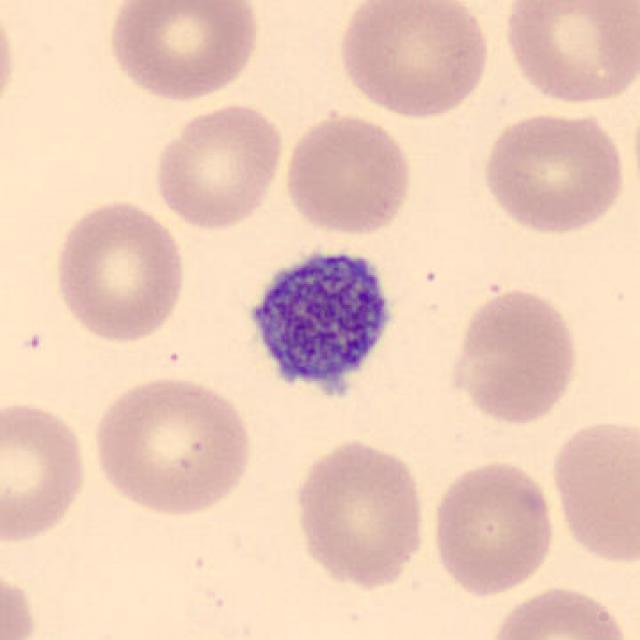Platelets: (233, 234, 403, 418)
RBC: (89, 371, 258, 518), (288, 434, 430, 592), (50, 194, 190, 346), (476, 106, 630, 238), (445, 284, 583, 428), (334, 0, 494, 122), (427, 455, 560, 599), (150, 100, 286, 231), (279, 111, 416, 238), (103, 0, 263, 104), (497, 0, 638, 109), (546, 413, 638, 566), (0, 395, 91, 546), (485, 582, 633, 640), (0, 566, 41, 640), (0, 3, 21, 126)
